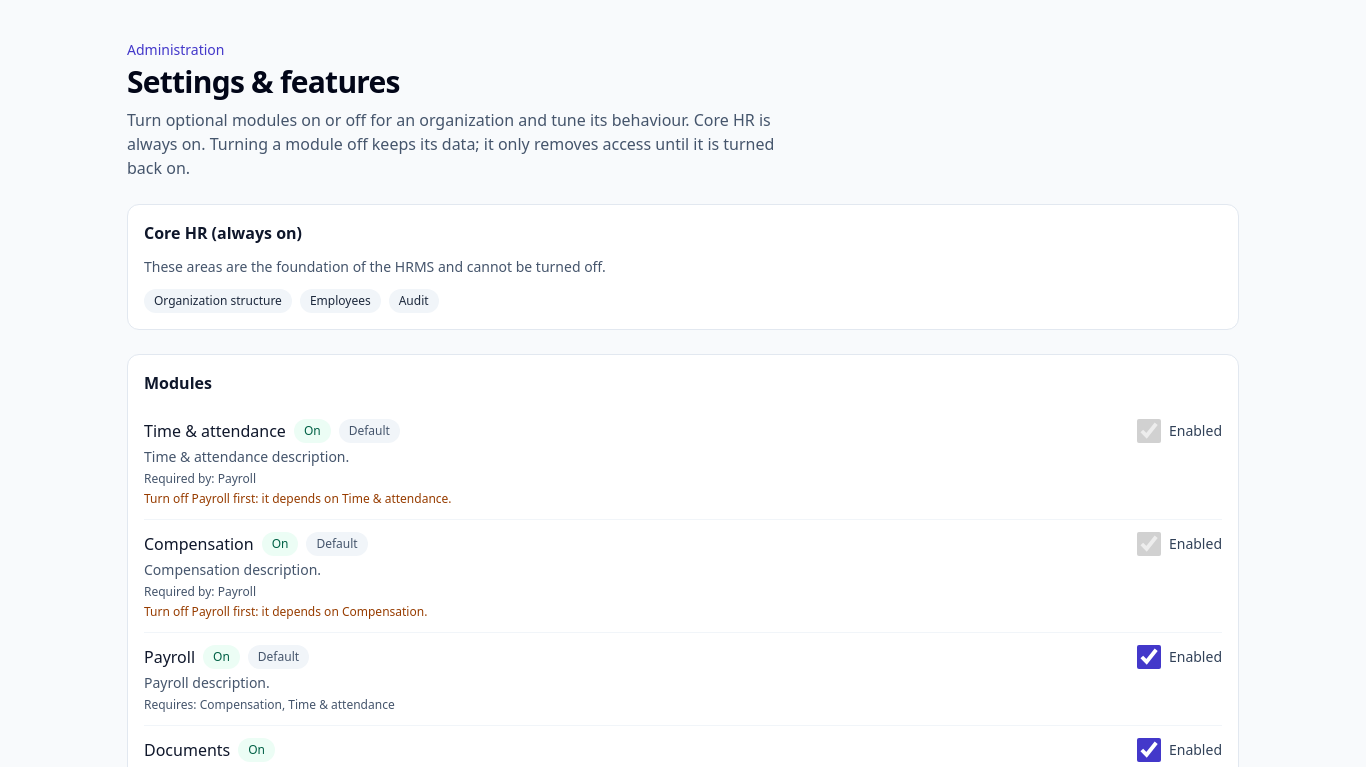
FeaturesAdminPage › confirms before disabling a module and sends the expected version
The image size is (1366, 767).
Expected: the switch named "Payroll enabled" is shown, [1137,645,1161,669]
Step 1. Click the switch named "Documents enabled" → [1149, 750], box [1137,738,1161,762]
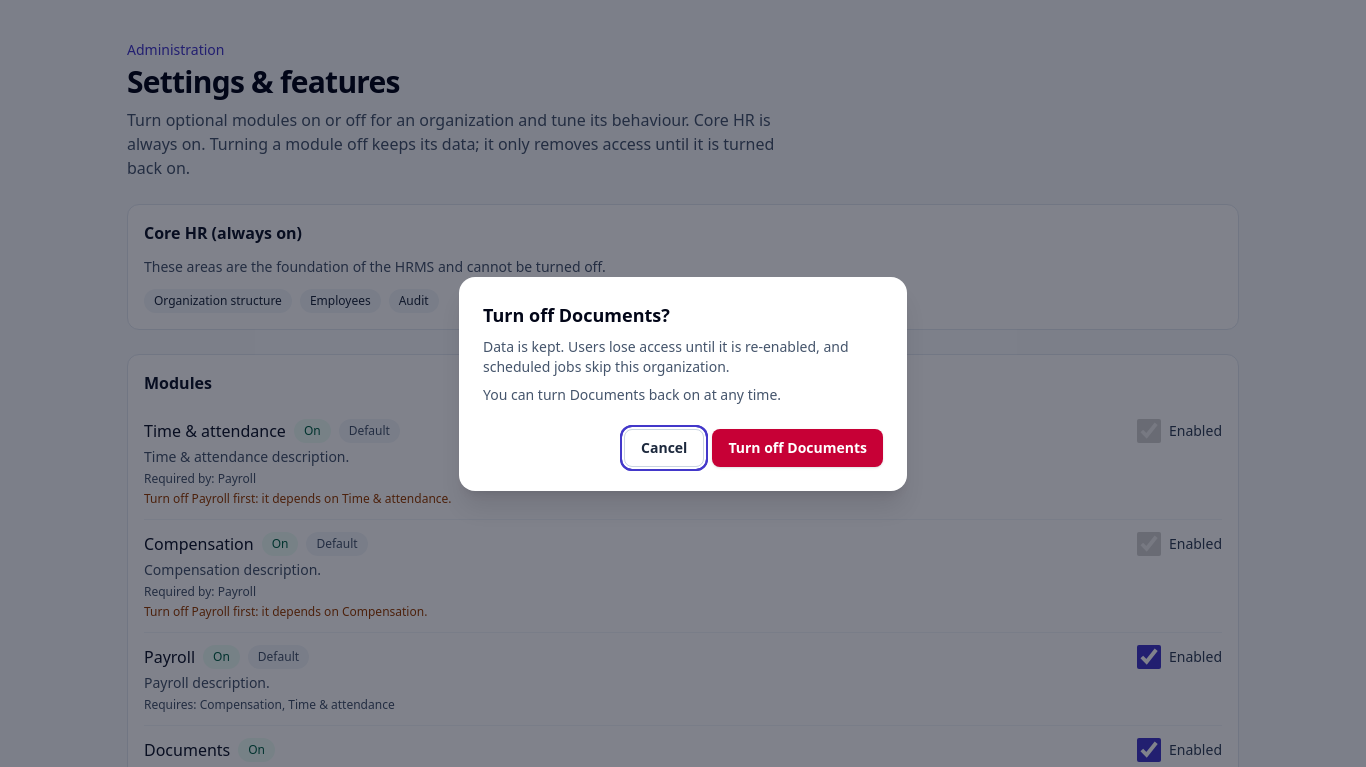
Now the text "Data is kept. Users lose access until it is re-enabled, and scheduled jobs skip this organization." is shown, box [483,337,849,376]
Step 2. Click the button "Cancel" → [664, 448], box [624,429,704,467]
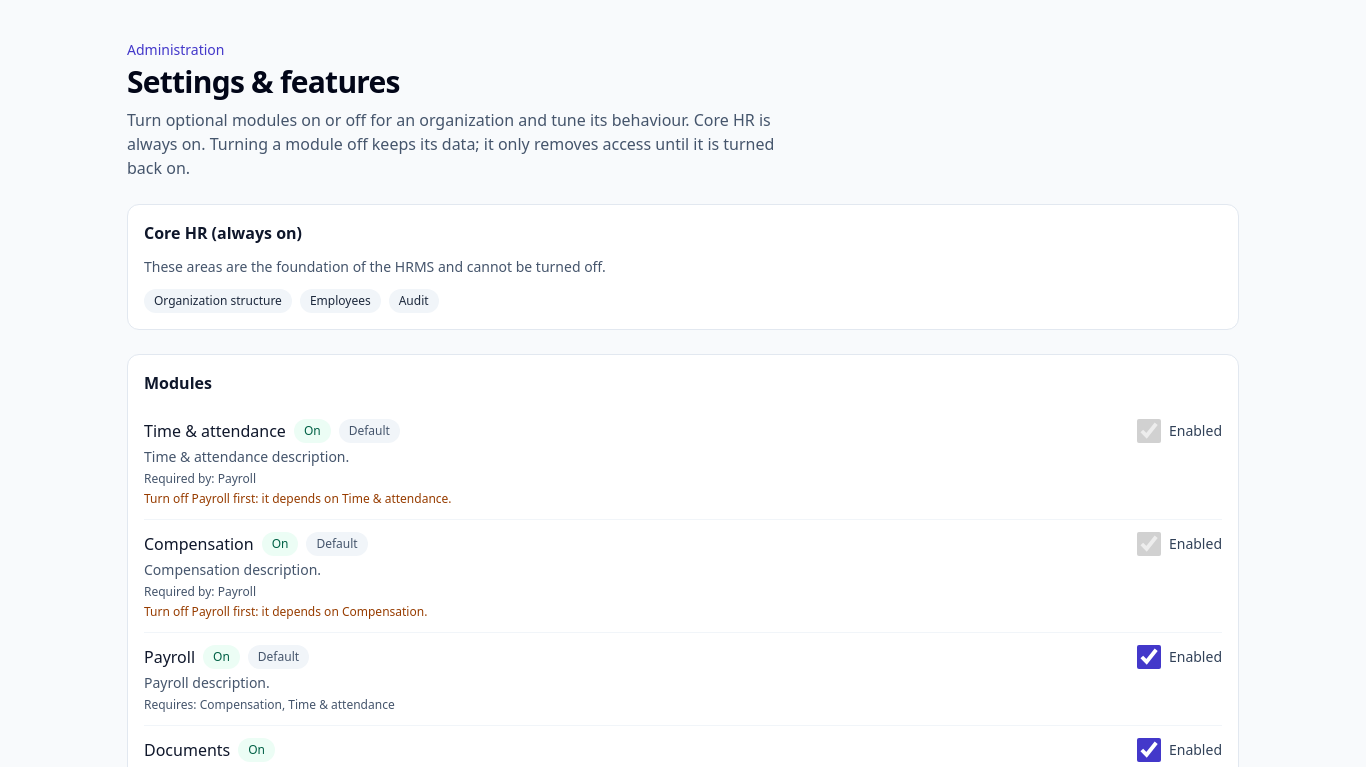
Now the dialog is gone
Step 3. Click the switch named "Documents enabled" → [1149, 750], box [1137,738,1161,762]
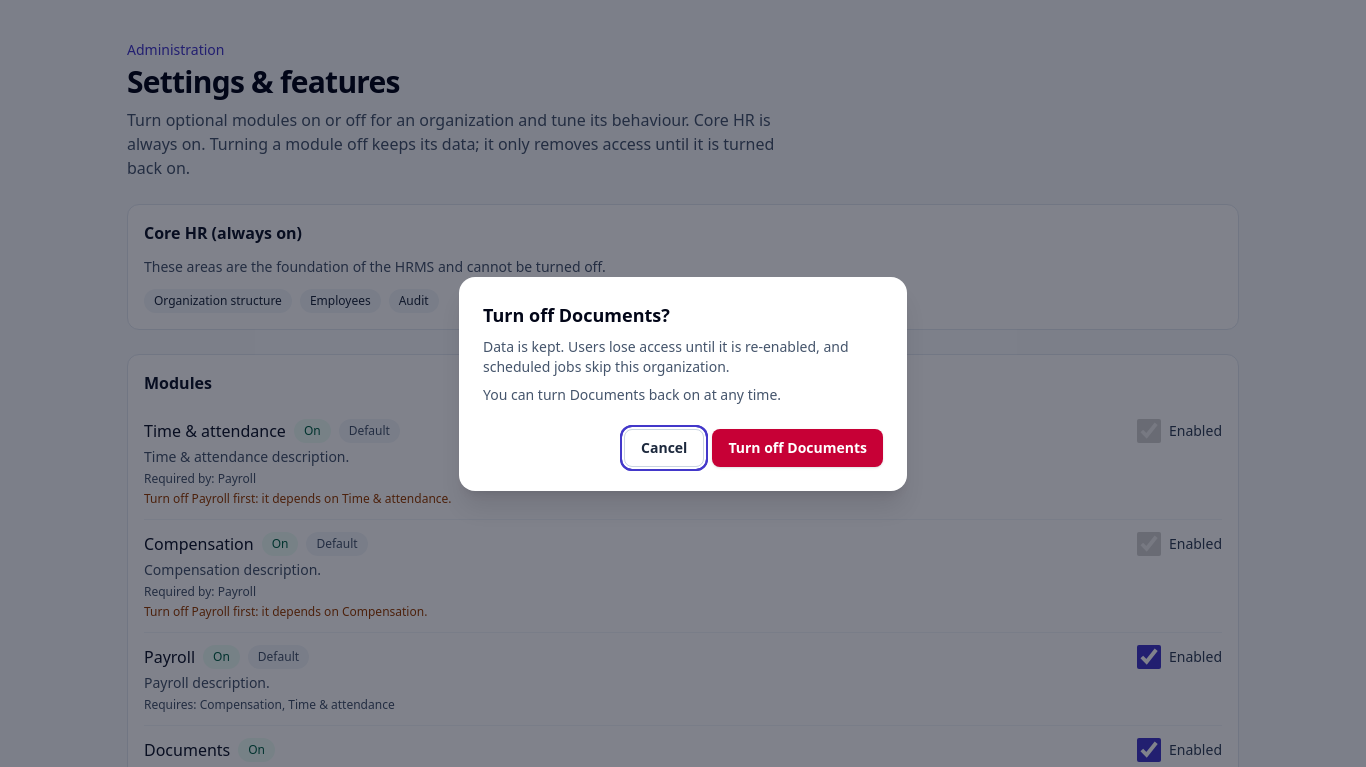
Step 4. Click the button "Turn off Documents" → [798, 448], box [712,429,883,467]
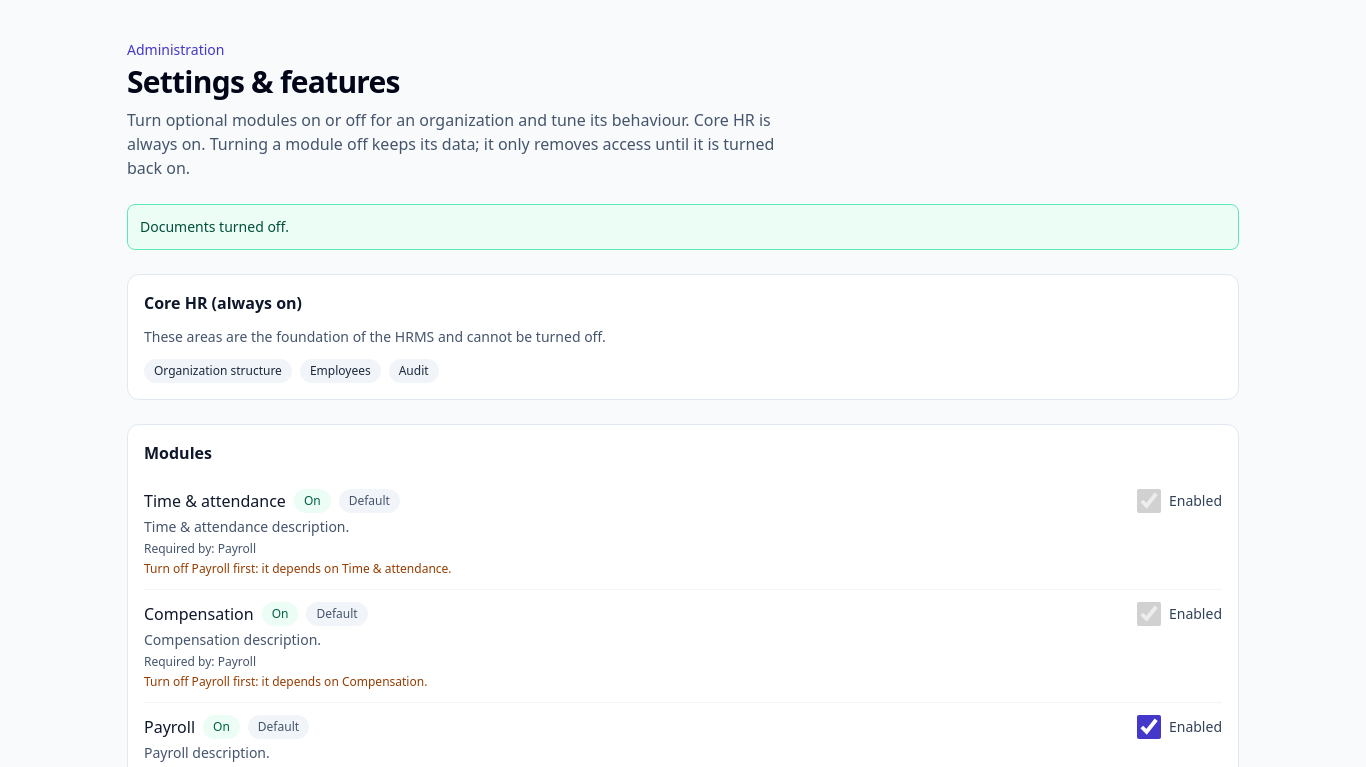
Now the text "Documents turned off." is shown, box [127,204,1239,250]
